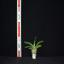leaf: (24, 41, 34, 49), (34, 41, 44, 48), (35, 45, 42, 49), (25, 46, 34, 49), (34, 37, 36, 48), (28, 47, 33, 50)
